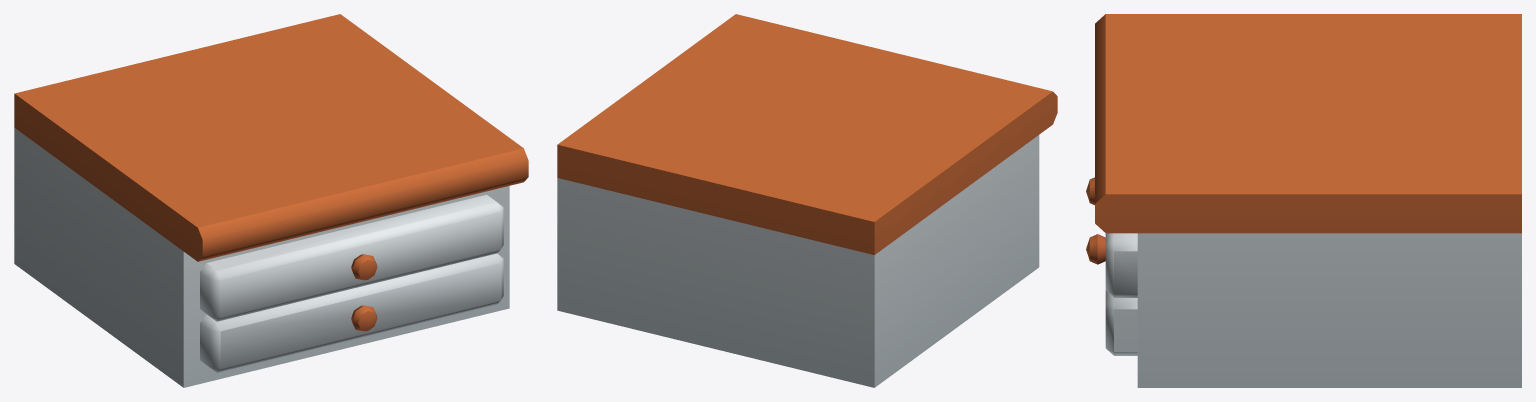
Rendered from kitchencounter_straight_A.obj.
3 renders of one model, left to right at view 1: azimuth 30°, elevation 25°; view 2: azimuth 150°, elevation 25°; view 3: azimuth 270°, elevation 25°, orthographic. The views are drawn at different scales.
Visible parts, largest first — view 1: kitchencounter_straight_A_Cube.896; view 2: kitchencounter_straight_A_Cube.896; view 3: kitchencounter_straight_A_Cube.896.
Part boxes in pixels (x1,y1,x2,y2): kitchencounter_straight_A_Cube.896: (14,14,528,387); kitchencounter_straight_A_Cube.896: (557,14,1057,387); kitchencounter_straight_A_Cube.896: (1086,14,1521,387).
Bounding box in the file's own units: 2 × 1 × 2.04.
Materials: 1 (1 with a texture image).
